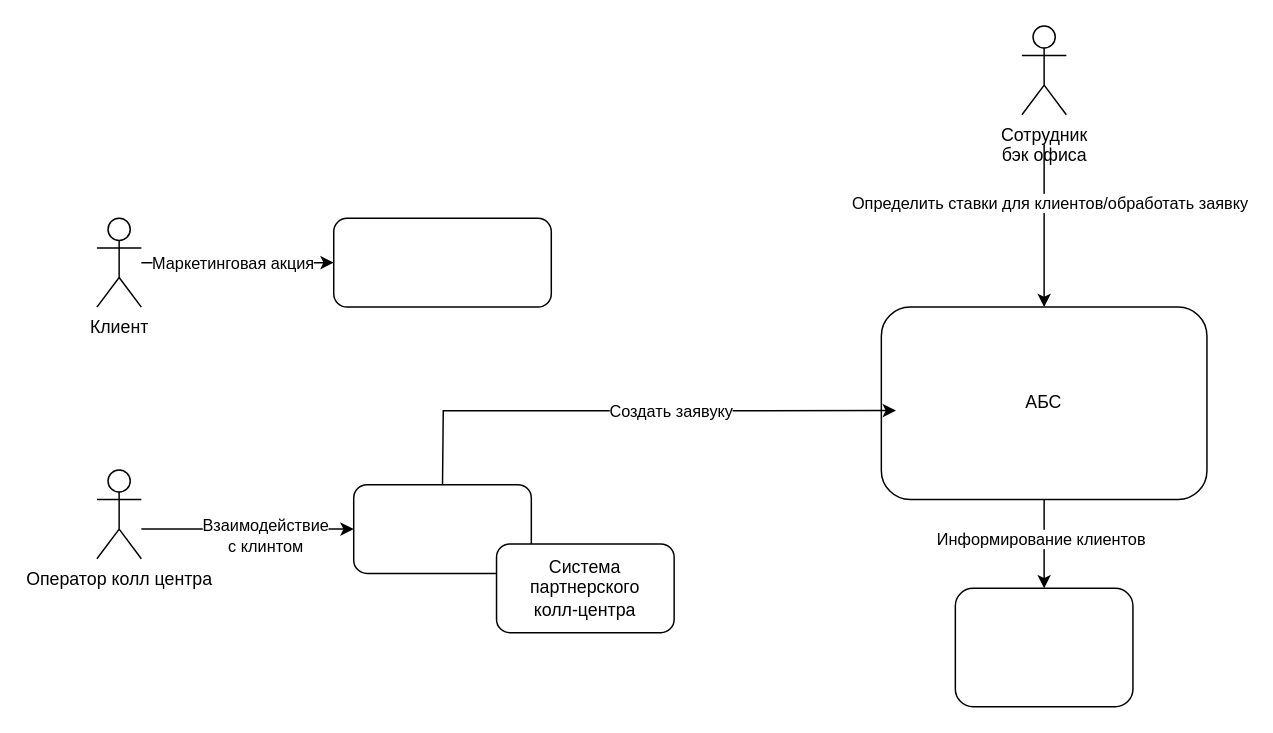
Image size: 1273x733. Some labels were removed from this diagram. Here are the shapes that lost their labels. From the top down, the centre of each, then its label:
At pixel 441 262: "Интернет- банк".
At pixel 441 528: "Система колл-цента".
At pixel 1043 647: "CMS шлюз".
